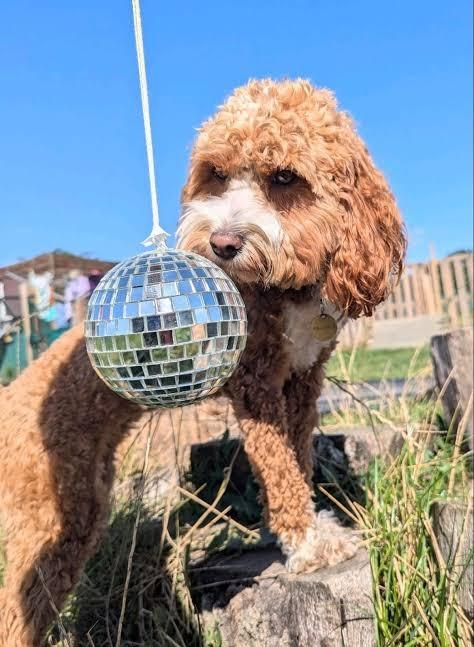adult_dog: (1, 74, 411, 647)
